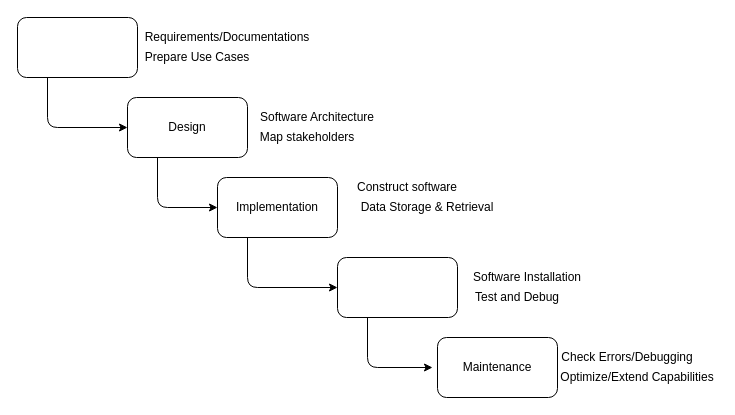
This 735x415 diagram has some shape labels left out. Here are the shapes that lost their labels. From the top down, the box of each, then its label:
(16, 16, 138, 78): Requirement
(336, 256, 458, 318): Verification
